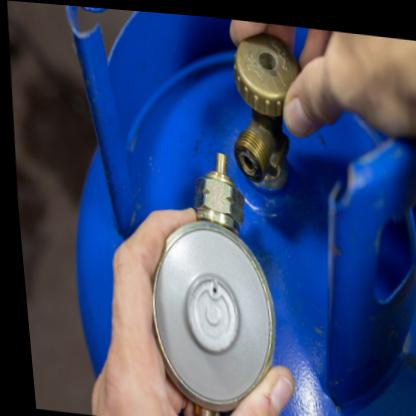gas-tank: (30, 1, 415, 415)
